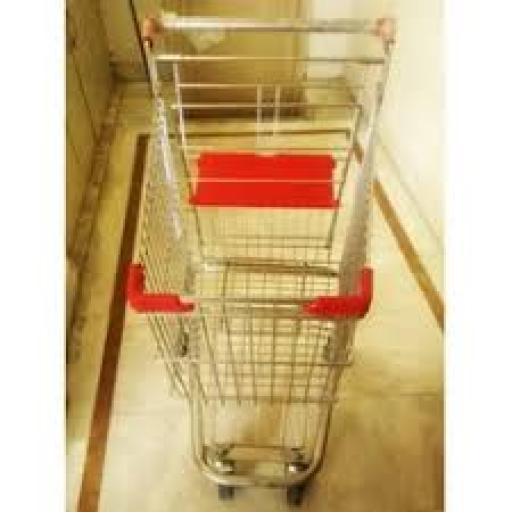shopping_cart: (126, 10, 398, 507)
